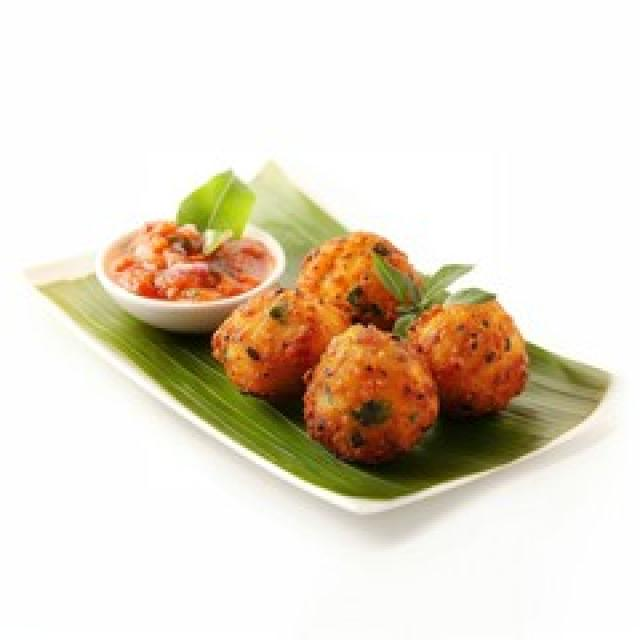RED CHUTNEY: (102, 217, 274, 308)
VADA: (206, 228, 537, 462)
